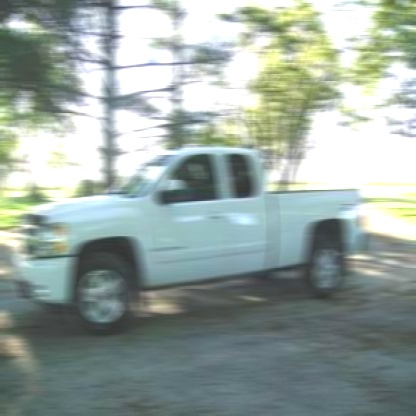Vehicle: (14, 145, 370, 339)
